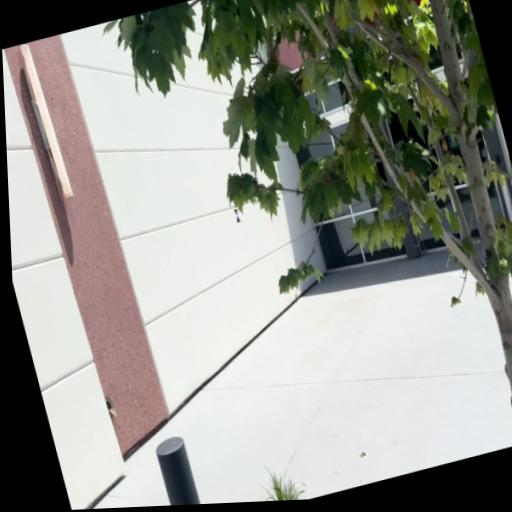target7: (233, 207, 241, 223)
